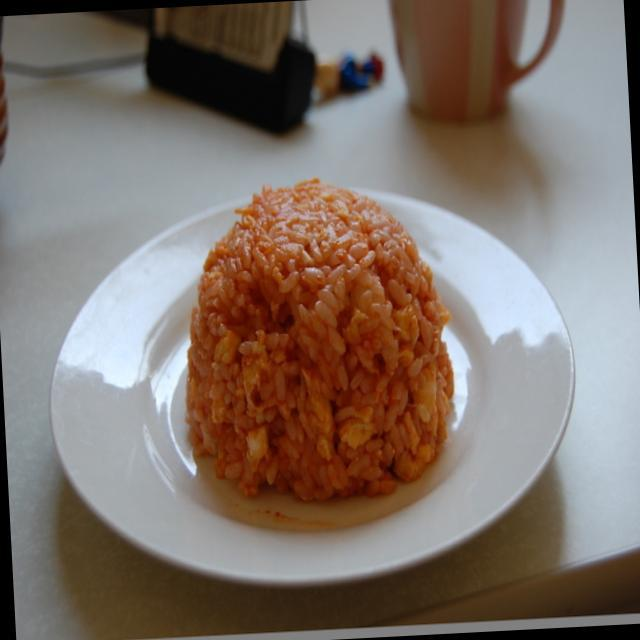Rice: (168, 170, 462, 512)
